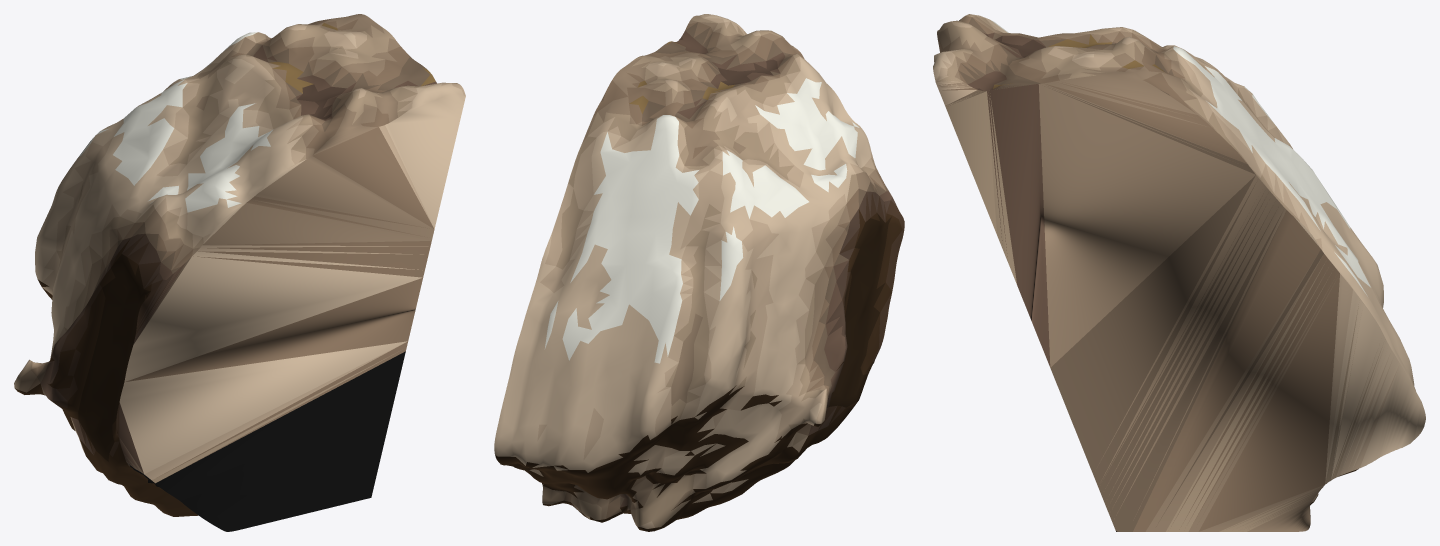
File: rock_column_tl.glb
3 renders of one model, left to right at view 1: azimuth 30°, elevation 25°; view 2: azimuth 150°, elevation 25°; view 3: azimuth 270°, elevation 25°, orthographic. The views are drawn at different scales.
Parts seen in each view (by area): view 1: rock_column_tl; view 2: rock_column_tl; view 3: rock_column_tl.
Boxes of the visible parts, <box> form: rock_column_tl: <box>14,14,465,531</box>; rock_column_tl: <box>494,14,904,531</box>; rock_column_tl: <box>933,14,1425,531</box>.
Bounding box in the file's own units: 23.14 × 35.62 × 34.14.
